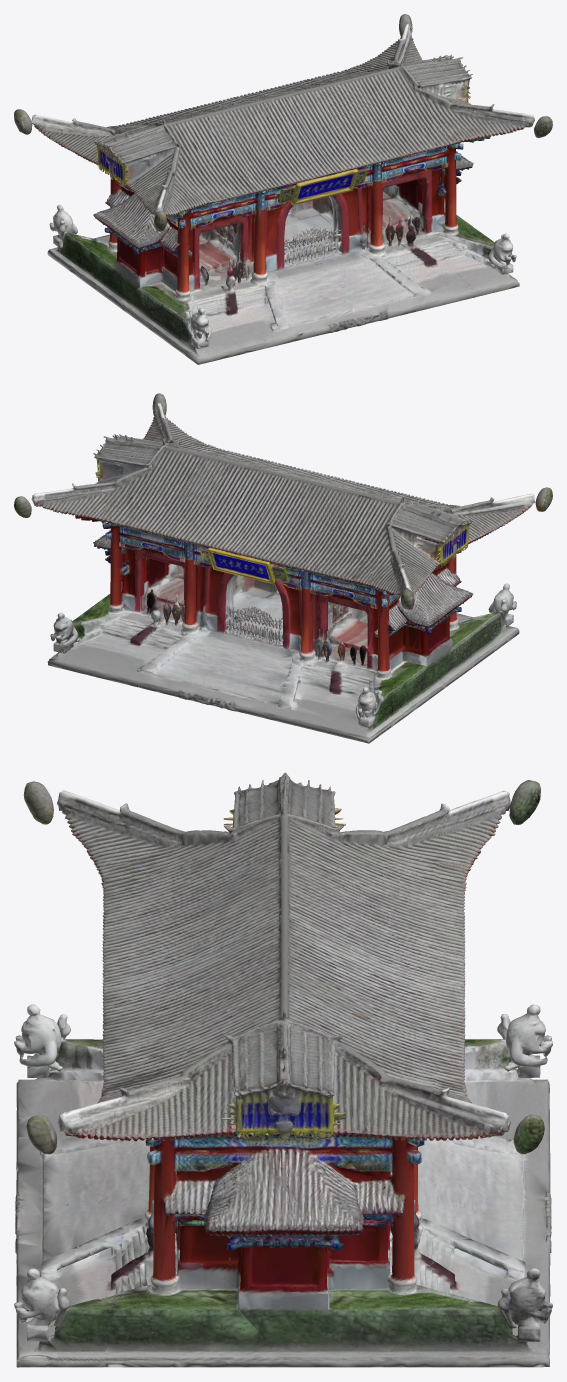
Rendered from lib_paifang.hd.glb.
3 views of the same model, one above another, from view 1: azimuth 30°, elevation 25°; view 2: azimuth 150°, elevation 25°; view 3: azimuth 270°, elevation 25° (orthographic). The views are drawn at different scales.
Bounding box in the file's own units: 1.9 × 0.8326 × 1.26.
Materials: 1 (1 with a texture image).
